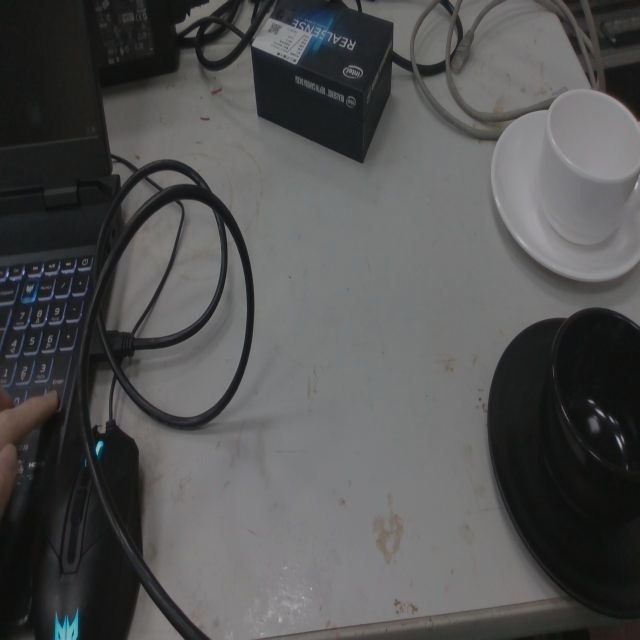black: (484, 301, 640, 625)
white: (488, 83, 640, 289)
